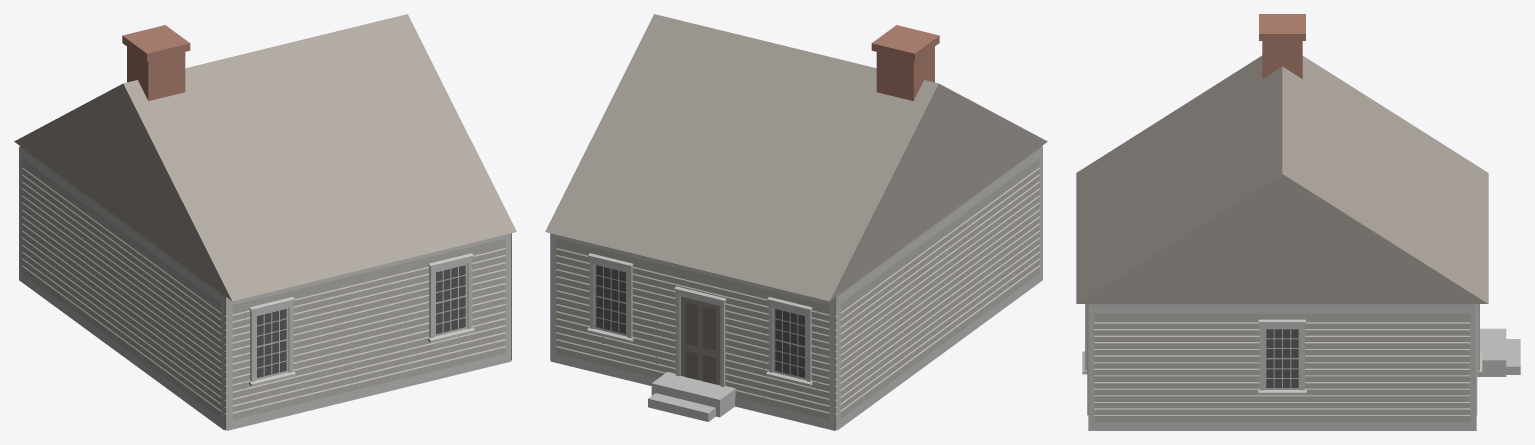
File: recon_1835_blk_lake_clinton_d4_01__inferred_1835.glb
3 views of the same model, side by side, from view 1: azimuth 30°, elevation 25°; view 2: azimuth 150°, elevation 25°; view 3: azimuth 270°, elevation 25° (orthographic). The views are drawn at different scales.
Parts seen in each view (by area): view 1: recon_1835_blk_lake_clinton_d4_01__inferred_1835; view 2: recon_1835_blk_lake_clinton_d4_01__inferred_1835; view 3: recon_1835_blk_lake_clinton_d4_01__inferred_1835.
Boxes of the visible parts, bbox=[...] form: recon_1835_blk_lake_clinton_d4_01__inferred_1835: bbox=[14, 14, 516, 430]; recon_1835_blk_lake_clinton_d4_01__inferred_1835: bbox=[545, 14, 1047, 430]; recon_1835_blk_lake_clinton_d4_01__inferred_1835: bbox=[1076, 14, 1520, 430].
Size of the model in its own units: 6.61 by 6.67 by 9.25.
